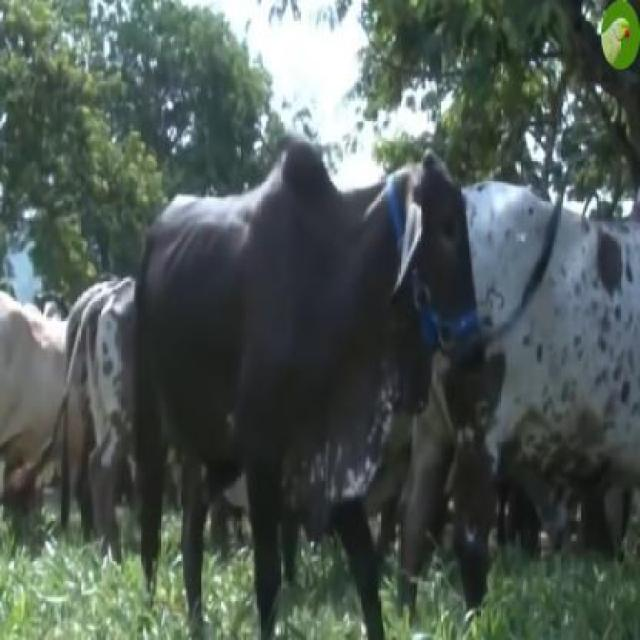Cow: (135, 140, 483, 638)
